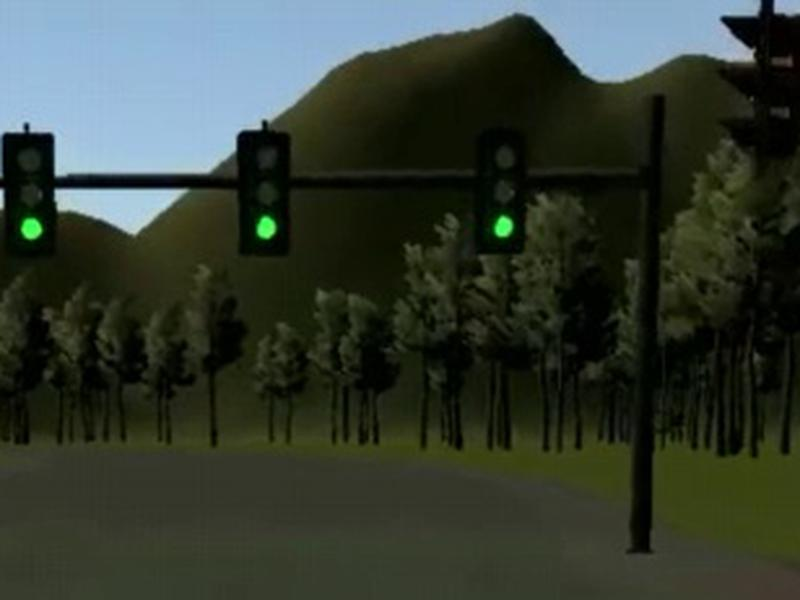Green: (237, 131, 293, 258), (1, 131, 57, 253), (475, 128, 529, 254)
